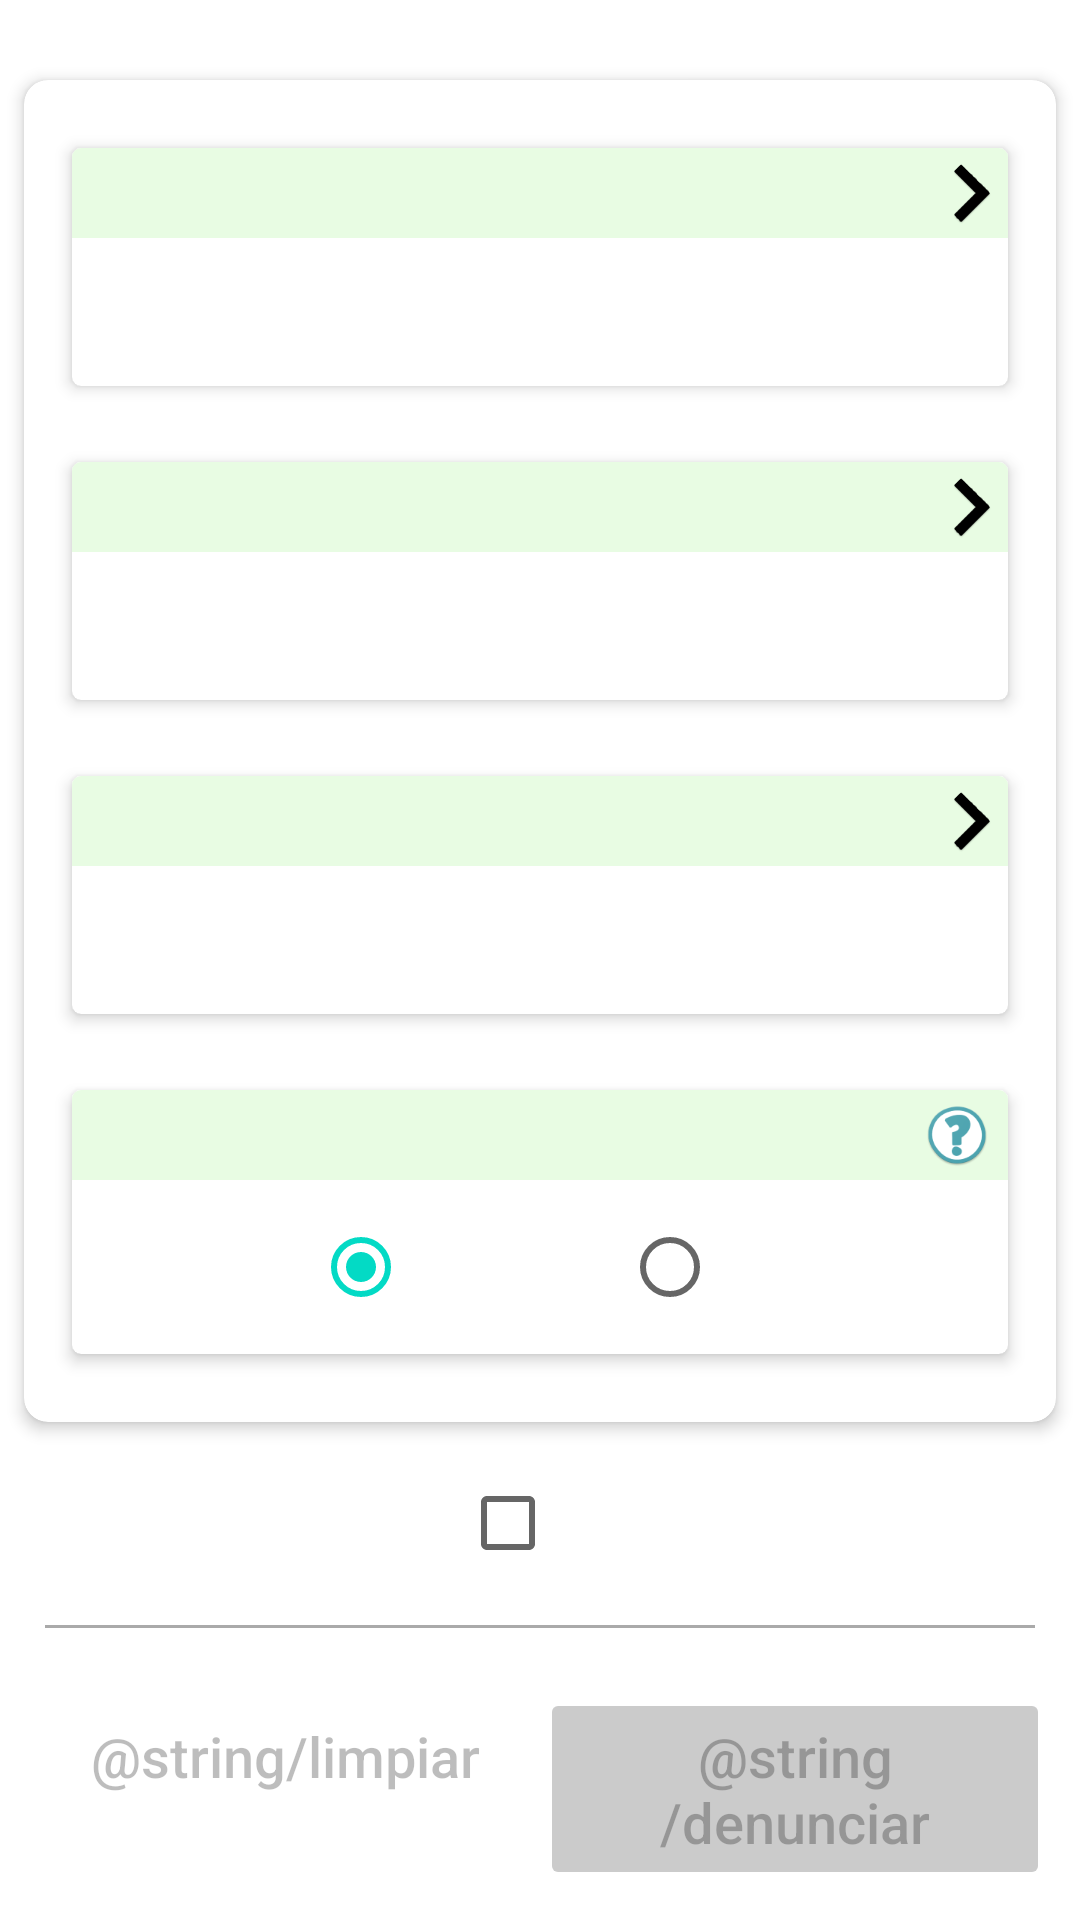

Screen size 1080px×1920px. Icon name, then its center in pixels as (x=x, y=y):
ayuda user: (x=957, y=1135)
